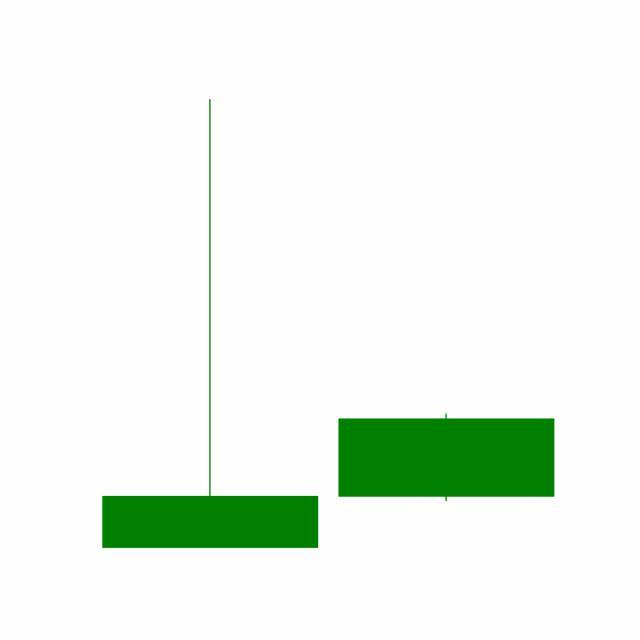Marubozu: (328, 413, 566, 504)
